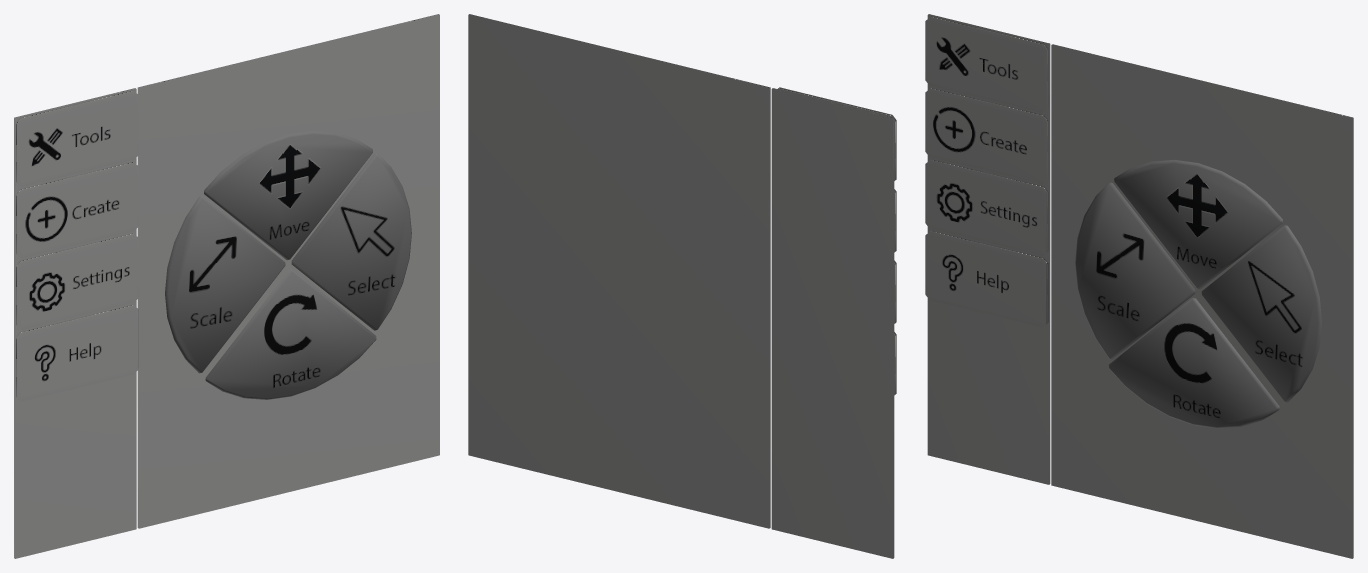
File: ModellerUI.fbx
3 renders of one model, left to right at view 1: azimuth 30°, elevation 25°; view 2: azimuth 150°, elevation 25°; view 3: azimuth 330°, elevation 25°, orthographic.
Visible parts, largest first — view 1: Radial Menu Back, Side menu, Bottom, Left, Right, Top, Create, Tools, Settings, Help; view 2: Radial Menu Back, Side menu, Tools; view 3: Radial Menu Back, Side menu, Bottom, Left, Right, Top, Help, Tools, Create, Settings.
Boxes of the visible parts, <box> form: Radial Menu Back: <box>137,14,439,528</box>; Side menu: <box>14,88,136,558</box>; Bottom: <box>205,269,376,399</box>; Left: <box>165,196,285,373</box>; Right: <box>291,153,411,330</box>; Top: <box>204,130,372,260</box>; Create: <box>15,161,138,258</box>; Tools: <box>15,90,138,186</box>; Settings: <box>15,233,138,329</box>; Help: <box>15,304,138,401</box>; Radial Menu Back: <box>468,14,770,528</box>; Side menu: <box>771,88,894,558</box>; Tools: <box>778,87,896,180</box>; Radial Menu Back: <box>1051,44,1353,558</box>; Side menu: <box>927,14,1050,484</box>; Bottom: <box>1109,297,1279,428</box>; Left: <box>1075,182,1195,359</box>; Right: <box>1201,225,1321,402</box>; Top: <box>1114,159,1282,289</box>; Help: <box>925,230,1048,327</box>; Tools: <box>925,16,1048,112</box>; Create: <box>925,87,1048,184</box>; Settings: <box>925,159,1048,255</box>.
Size of the model in its own units: 497 by 493 by 14.95.
